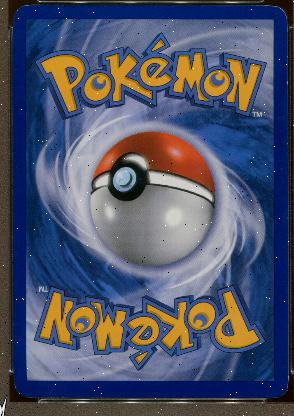Card: (10, 2, 290, 400)
Corner Wear: (255, 3, 287, 31), (265, 375, 287, 398), (13, 376, 35, 398), (12, 3, 38, 21)
Edge Wear: (285, 133, 287, 163), (12, 338, 13, 364), (286, 78, 287, 96)
Scratch: (47, 347, 80, 396), (271, 115, 284, 119), (241, 176, 249, 180), (257, 154, 259, 160), (265, 160, 281, 160)
